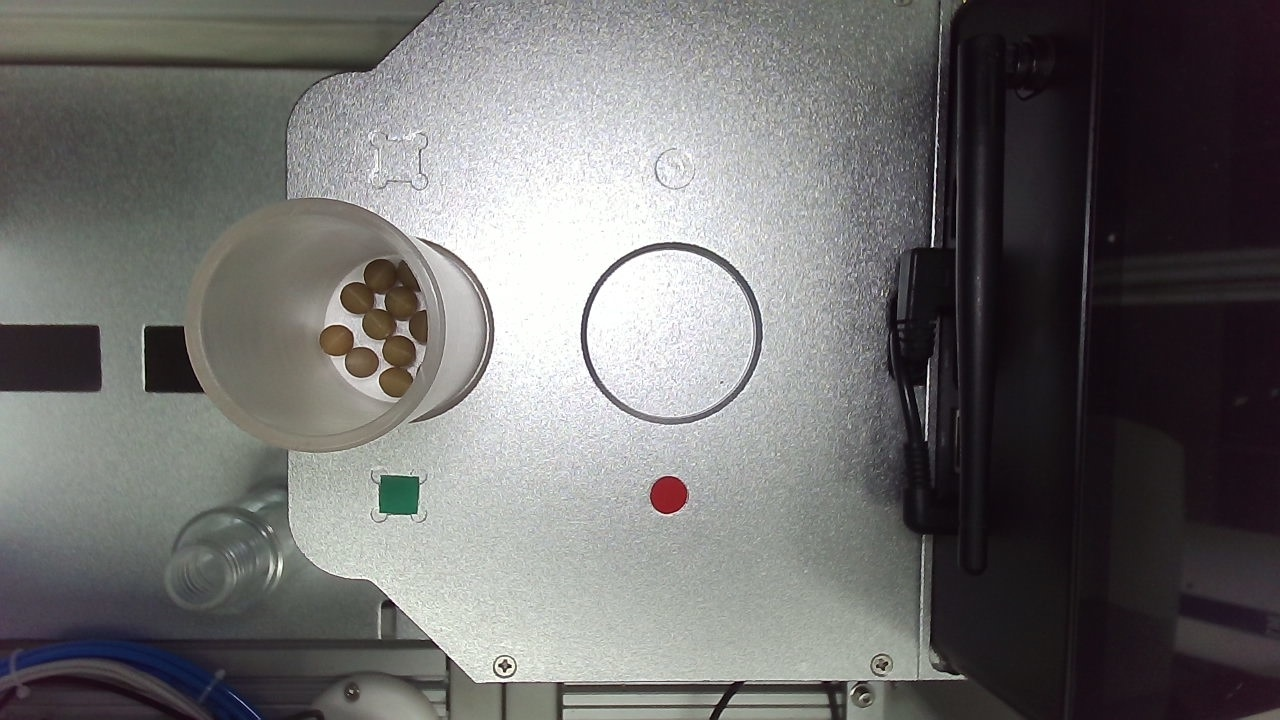XLabel: (581, 302, 615, 335)
YLabel: (358, 301, 393, 336)
none: (290, 374, 458, 537)
transparenexcept: (491, 371, 702, 582)
